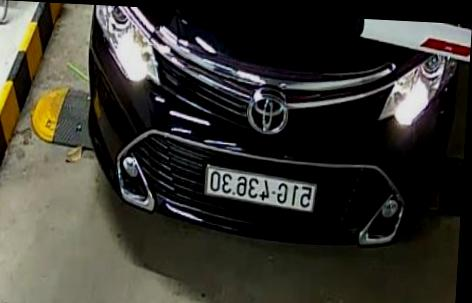License_Plate: (199, 158, 323, 216)
